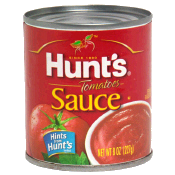grozi_80: (23, 4, 152, 172)
